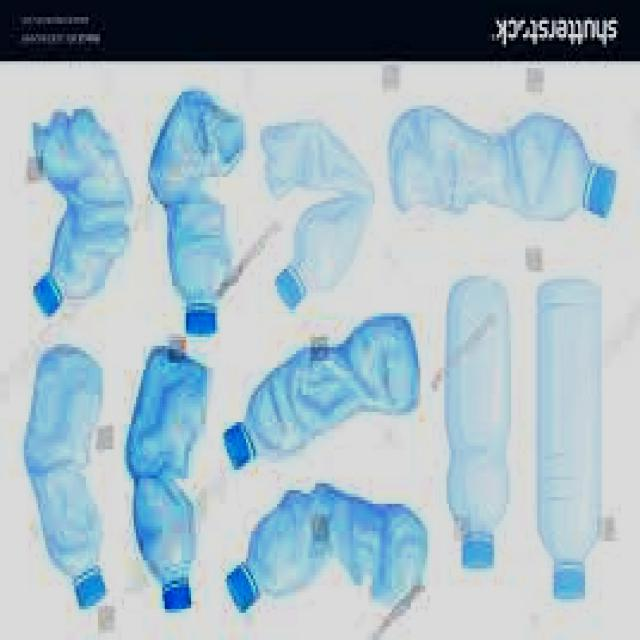bottle: (378, 83, 630, 253), (223, 312, 422, 474), (224, 477, 433, 627), (525, 270, 605, 616), (22, 338, 113, 616), (440, 262, 519, 580), (145, 91, 243, 338), (122, 338, 207, 608), (256, 116, 372, 312), (28, 106, 132, 320)
